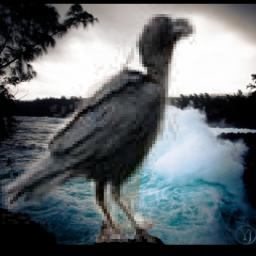Crow: (3, 4, 198, 243)
